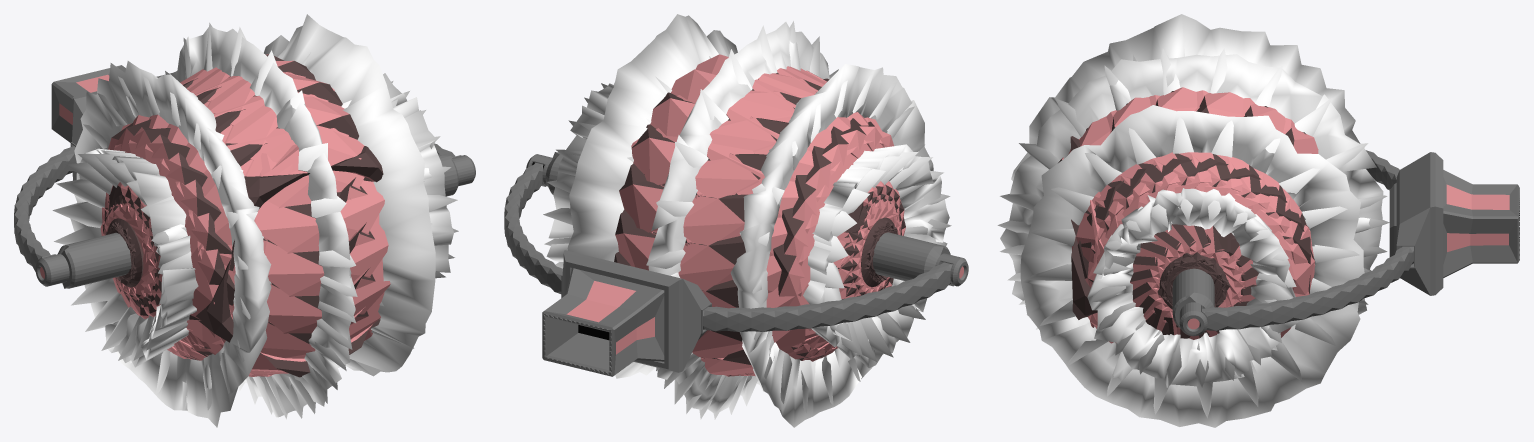
Rendered from crasherbot.glb.
3 renders of one model, left to right at view 1: azimuth 30°, elevation 25°; view 2: azimuth 150°, elevation 25°; view 3: azimuth 270°, elevation 25°, orthographic. The views are drawn at different scales.
Parts seen in each view (by area): view 1: blur, ring, main, spikes; view 2: blur, ring, main, spikes; view 3: blur, ring, main, spikes.
Boxes of the visible parts, x1,y1,x2,y2 form: blur: (52,14,458,427); ring: (14,65,475,288); main: (100,144,383,377); spikes: (126,94,432,390); blur: (543,14,951,427); ring: (504,152,968,376); main: (653,70,899,375); spikes: (646,41,924,400); blur: (997,14,1389,427); ring: (1172,150,1519,336); main: (1070,136,1241,328); spikes: (1109,80,1370,381).
Bounding box in the file's own units: 3.17 × 2.59 × 3.47.
